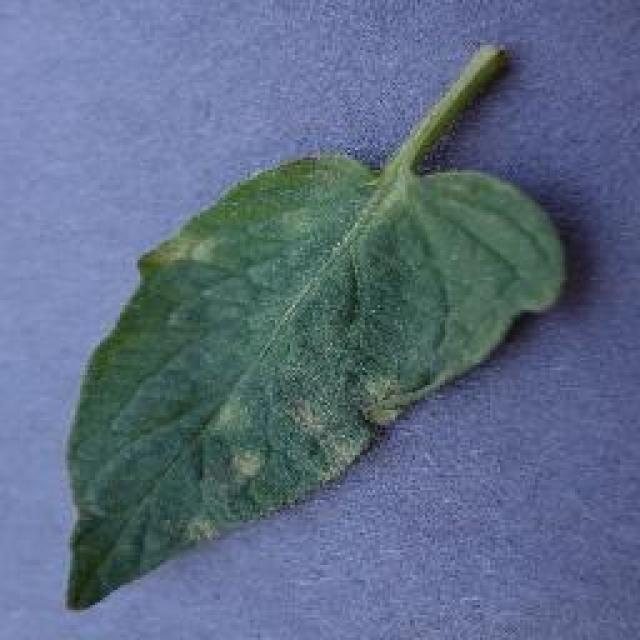Tomato___Leaf_Mold: (68, 45, 565, 605)
